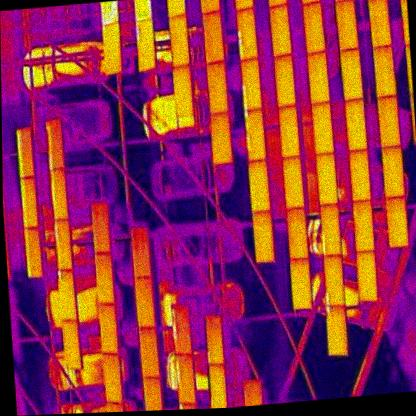Diode: (320, 254, 344, 307), (239, 56, 261, 111), (244, 107, 266, 160), (174, 352, 196, 405), (319, 204, 341, 256), (237, 6, 258, 60), (135, 19, 156, 72), (203, 312, 223, 365), (171, 304, 191, 356), (57, 267, 76, 320)
Hotspot: (324, 303, 348, 356)
Normal: (202, 8, 224, 65), (385, 195, 408, 249), (314, 151, 337, 205), (381, 144, 404, 198), (289, 256, 312, 309), (352, 198, 375, 251), (210, 111, 233, 164), (373, 43, 396, 96), (348, 147, 370, 202), (311, 100, 333, 155), (168, 12, 190, 67), (377, 94, 399, 148), (206, 60, 228, 114), (341, 47, 363, 101), (302, 0, 324, 54), (137, 325, 159, 379), (355, 249, 377, 302), (282, 155, 304, 208), (277, 105, 299, 158), (172, 64, 194, 117), (307, 50, 329, 103), (134, 273, 155, 328), (269, 3, 290, 58), (252, 210, 274, 262), (248, 159, 270, 211), (273, 54, 295, 106), (345, 97, 366, 150), (102, 21, 122, 75), (335, 0, 356, 51), (94, 251, 114, 304), (130, 226, 150, 279), (287, 206, 307, 259), (103, 351, 123, 404), (15, 126, 35, 178), (99, 301, 118, 354), (23, 226, 42, 279), (91, 201, 110, 253), (369, 0, 390, 47), (54, 218, 72, 269), (62, 318, 80, 369), (20, 176, 38, 226), (50, 169, 68, 219), (46, 119, 64, 168), (207, 363, 226, 409)
